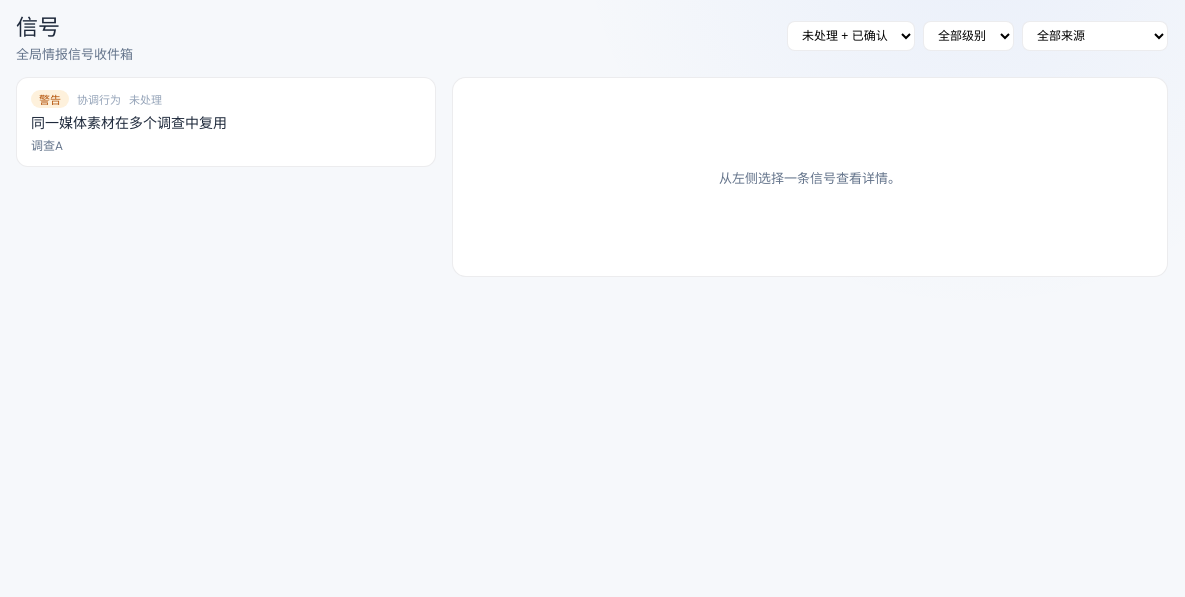
Test case: SignalsView (V3 §59) › still shows unknown evidence dicts in compact form (F-S05)
The width and height of the screenshot is (1185, 597).
Click the button with class "sigview__card": (226, 122) [16,77,436,167]
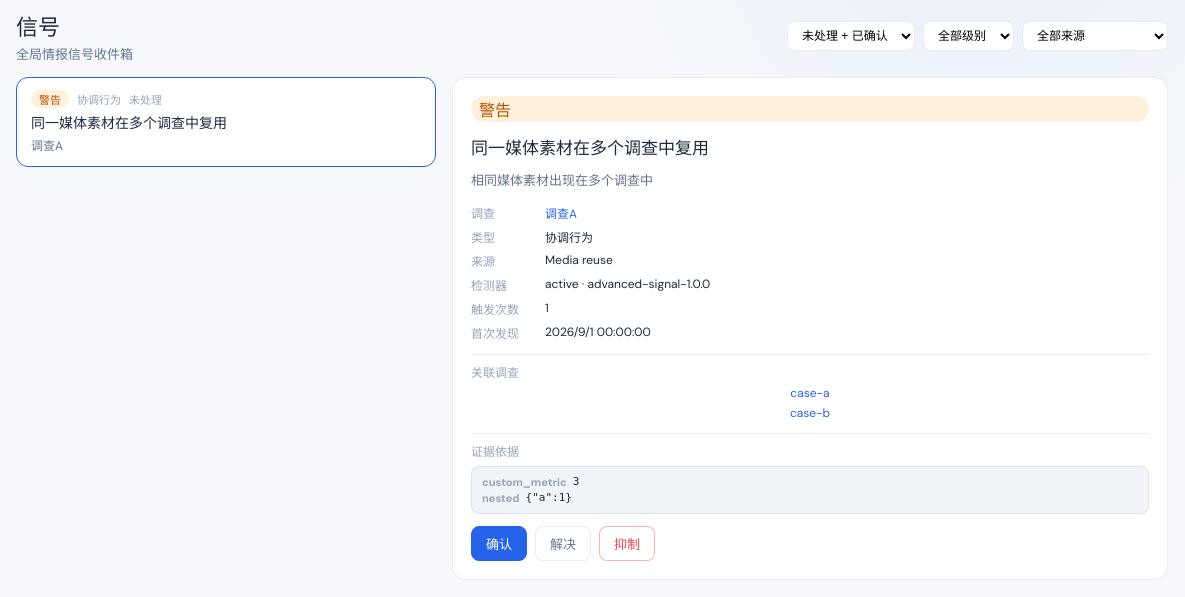
Now the element with test id "signal-evidence" is shown, box [471,433,1149,514]
Now the element with test id "signal-evidence" shows "custom_metric", box [482,475,567,489]
Now the element with test id "signal-evidence" shows "3", box [573,475,579,488]
